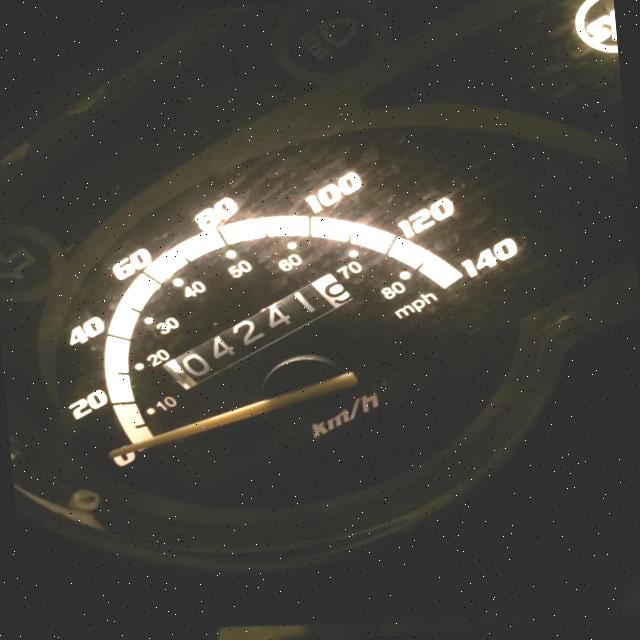odometer: (153, 270, 361, 392)
